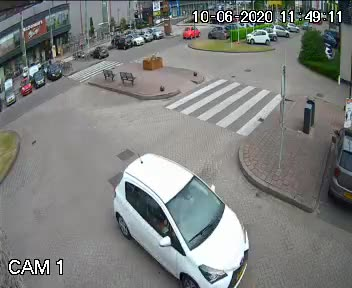car: (111, 155, 247, 285), (179, 22, 198, 50)
